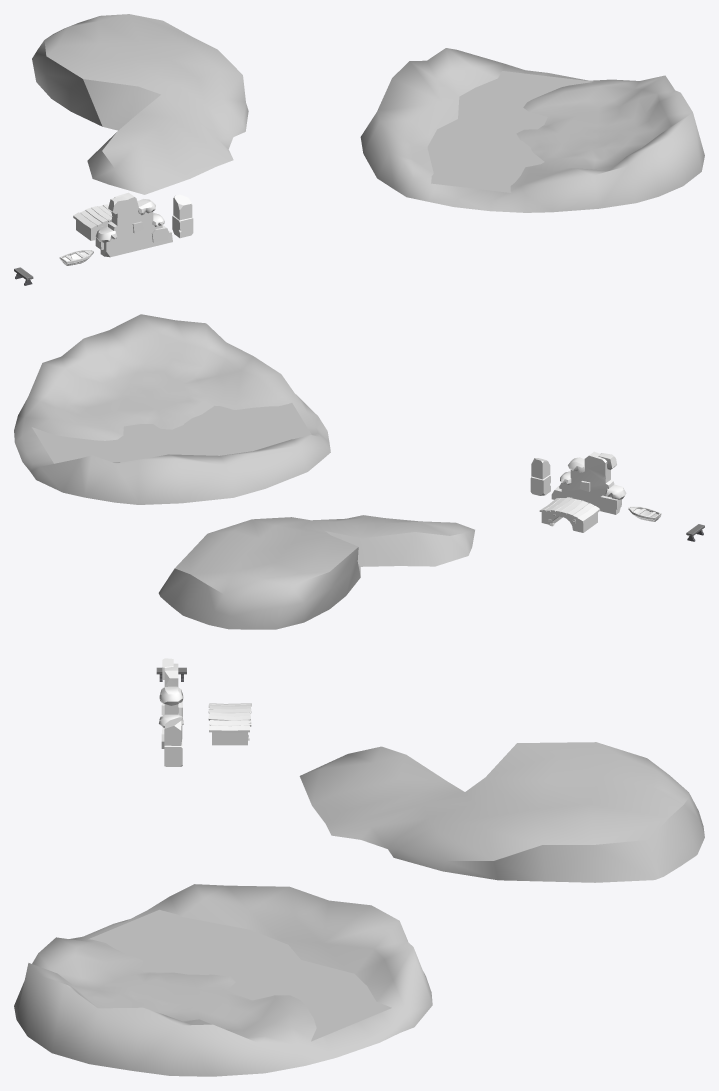
The model's file is env2.fbx.
3 views of the same model, one above another, from view 1: azimuth 30°, elevation 25°; view 2: azimuth 150°, elevation 25°; view 3: azimuth 270°, elevation 25° (orthographic). The views are drawn at different scales.
Parts seen in each view (by area): view 1: ter, mff_island_small, Plane, mff_ruins_wall_0, mff_ruins_bridge, mff_ruins_broken_column; view 2: ter, mff_island_small, Plane, mff_ruins_wall_0, mff_ruins_bridge, mff_ruins_broken_column; view 3: ter, mff_island_small, Plane, mff_ruins_bridge, mff_ruins_wall_0, mff_ruins_broken_column.
Boxes of the visible parts, bbox=[...] form: ter: bbox=[360, 48, 704, 212]; mff_island_small: bbox=[32, 14, 248, 194]; Plane: bbox=[427, 71, 593, 192]; mff_ruins_wall_0: bbox=[95, 192, 172, 257]; mff_ruins_bridge: bbox=[73, 204, 112, 240]; mff_ruins_broken_column: bbox=[172, 194, 193, 238]; ter: bbox=[14, 314, 330, 504]; mff_island_small: bbox=[158, 515, 474, 629]; Plane: bbox=[32, 403, 311, 463]; mff_ruins_wall_0: bbox=[551, 451, 626, 514]; mff_ruins_bridge: bbox=[539, 497, 600, 532]; mff_ruins_broken_column: bbox=[530, 458, 550, 495]; ter: bbox=[14, 884, 432, 1076]; mff_island_small: bbox=[299, 742, 704, 882]; Plane: bbox=[88, 909, 391, 1041]; mff_ruins_bridge: bbox=[208, 703, 251, 745]; mff_ruins_wall_0: bbox=[159, 658, 183, 748]; mff_ruins_broken_column: bbox=[164, 717, 182, 766].
Size of the model in its own units: 100 by 9.8 by 74.97.
